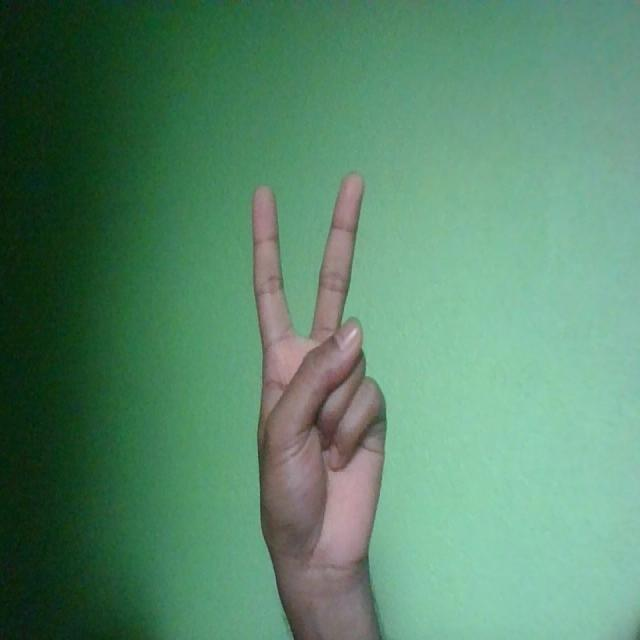Fist: (254, 170, 387, 582)
